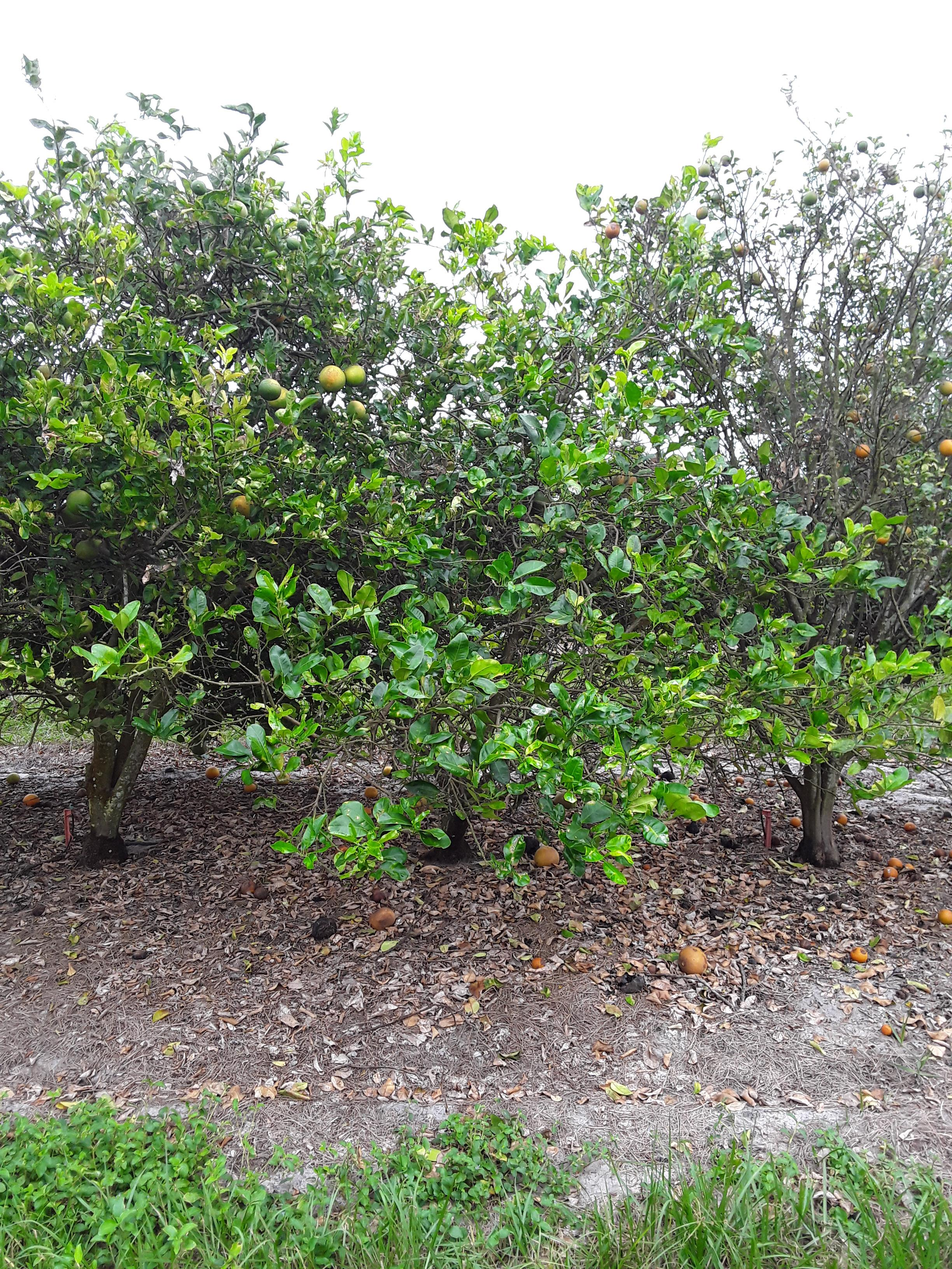fruit_on_ground: (316, 362, 347, 394), (254, 374, 287, 404), (220, 198, 249, 226), (228, 492, 257, 520), (341, 360, 369, 388), (343, 394, 370, 422), (263, 386, 293, 410), (35, 361, 62, 386), (90, 273, 116, 296), (611, 469, 639, 490), (268, 308, 290, 328), (472, 420, 494, 440), (188, 177, 210, 197), (602, 219, 623, 239), (928, 252, 947, 272), (731, 239, 750, 258), (632, 196, 651, 215), (746, 267, 765, 286), (884, 167, 902, 187), (801, 189, 821, 207), (936, 436, 952, 458), (865, 320, 884, 338), (844, 407, 863, 425), (853, 441, 872, 459), (715, 152, 735, 169), (855, 248, 873, 266), (911, 182, 929, 200), (693, 203, 711, 221), (936, 377, 952, 397), (790, 294, 807, 312), (295, 216, 312, 234), (905, 427, 923, 444), (695, 162, 713, 179), (874, 531, 892, 547), (862, 360, 878, 376), (816, 156, 831, 173), (854, 139, 870, 154), (890, 411, 904, 423)
fruit_on_tree: (677, 944, 710, 977), (368, 905, 398, 933), (309, 914, 338, 942), (532, 844, 560, 869), (620, 976, 644, 997), (519, 836, 539, 857), (850, 944, 870, 965), (251, 881, 271, 901), (717, 832, 738, 850), (238, 877, 257, 896), (239, 778, 259, 795), (936, 905, 952, 926), (28, 901, 46, 918), (362, 783, 380, 800), (369, 887, 388, 903), (21, 791, 40, 807), (204, 763, 222, 779), (529, 954, 546, 970), (5, 770, 22, 786), (274, 771, 291, 786), (881, 865, 898, 879), (879, 1021, 894, 1036), (362, 801, 377, 815), (788, 814, 803, 828), (887, 855, 903, 868), (902, 820, 918, 832), (868, 849, 882, 862), (836, 812, 850, 825), (903, 859, 917, 871), (732, 774, 746, 786), (381, 764, 393, 776), (744, 795, 757, 806), (779, 776, 791, 787), (764, 776, 776, 787)
